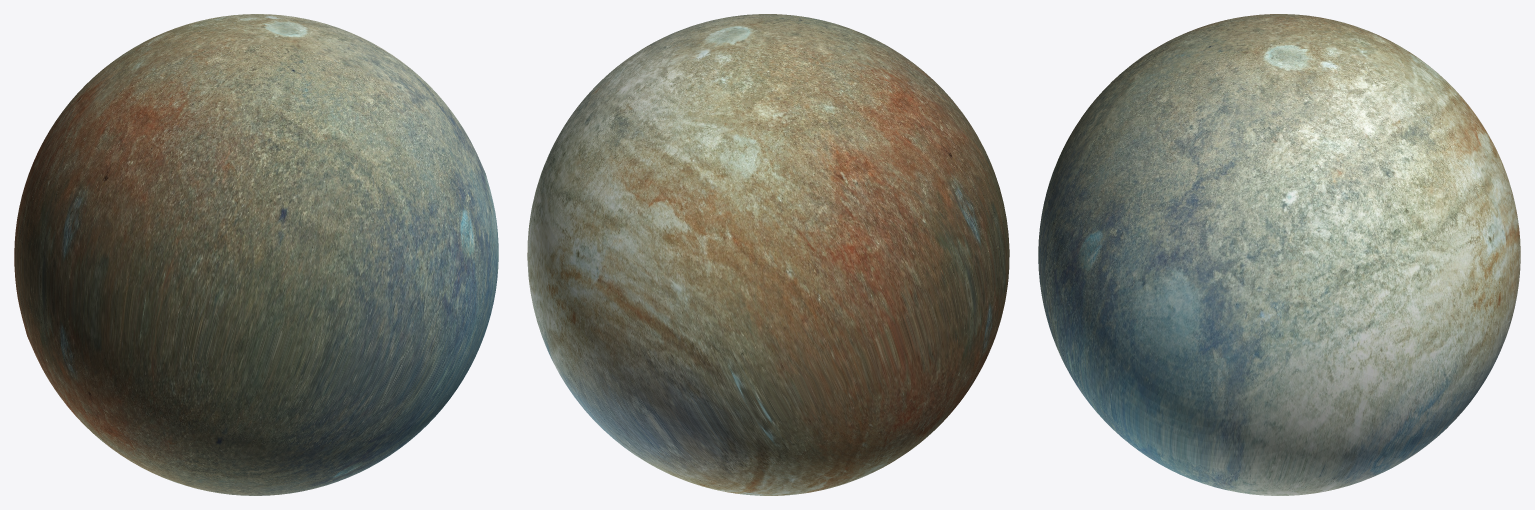
Rendered from europa.glb.
3 views of the same model, side by side, from view 1: azimuth 30°, elevation 25°; view 2: azimuth 150°, elevation 25°; view 3: azimuth 270°, elevation 25° (orthographic).
Parts seen in each view (by area): view 1: Europa; view 2: Europa; view 3: Europa.
Part boxes in pixels (x1,y1,x2,y2): Europa: (14,14,498,495); Europa: (527,14,1009,495); Europa: (1038,14,1520,495).
Size of the model in its own units: 205 by 204 by 204.
1 material, 1 textured.
